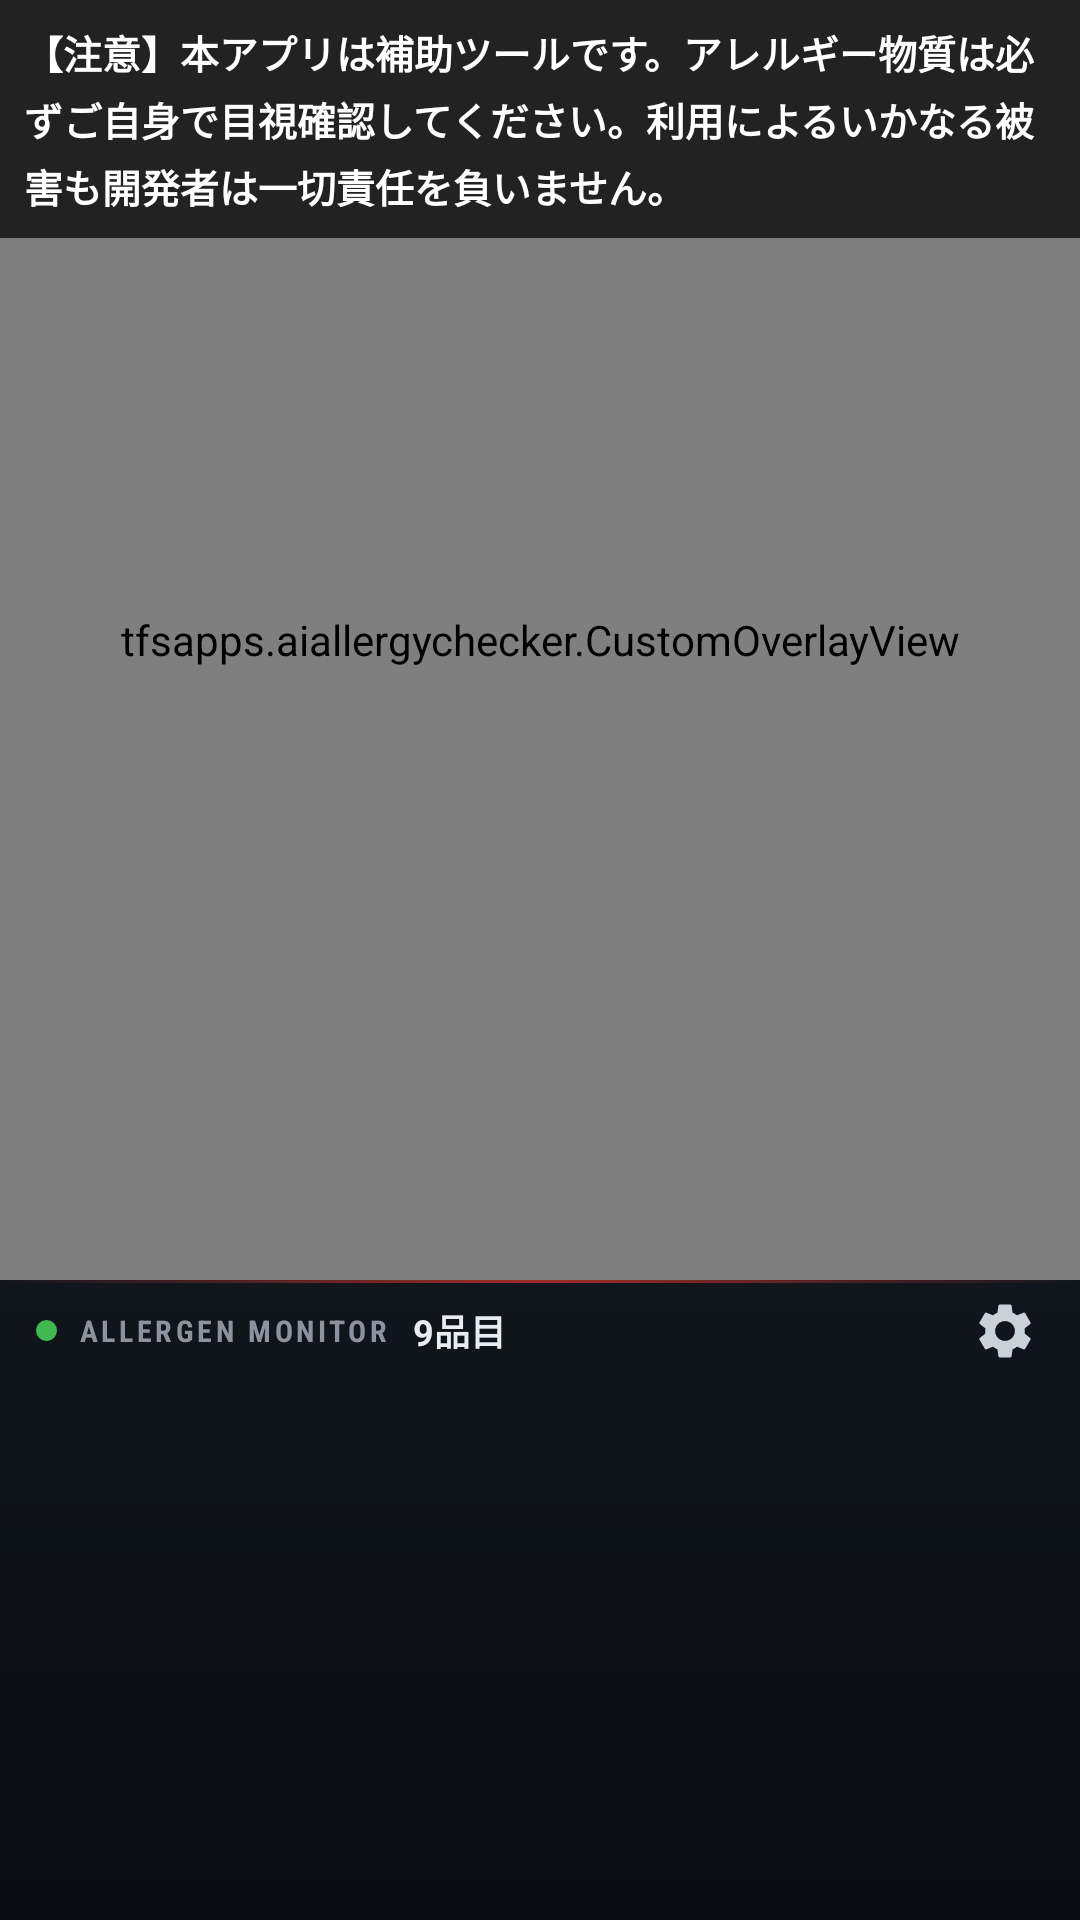

Point at icon controls on the screen. Image size 1080×1920, points as (x,y).
設定: (1005,1331)
